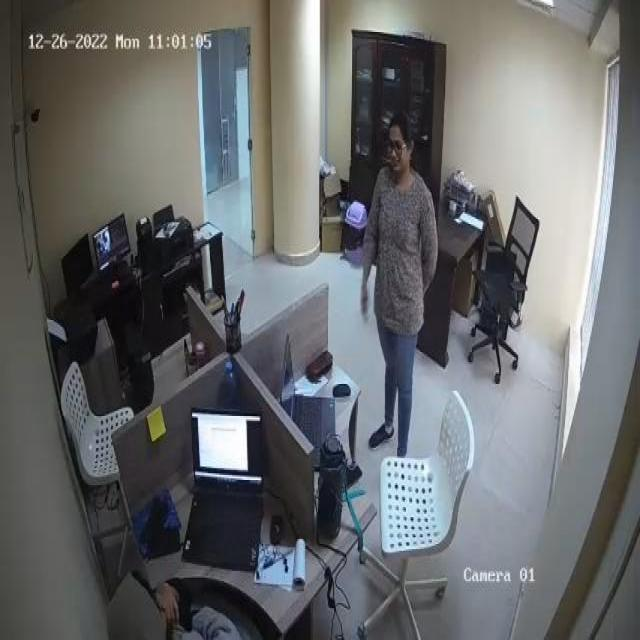bare_hand: (143, 574, 187, 633)
